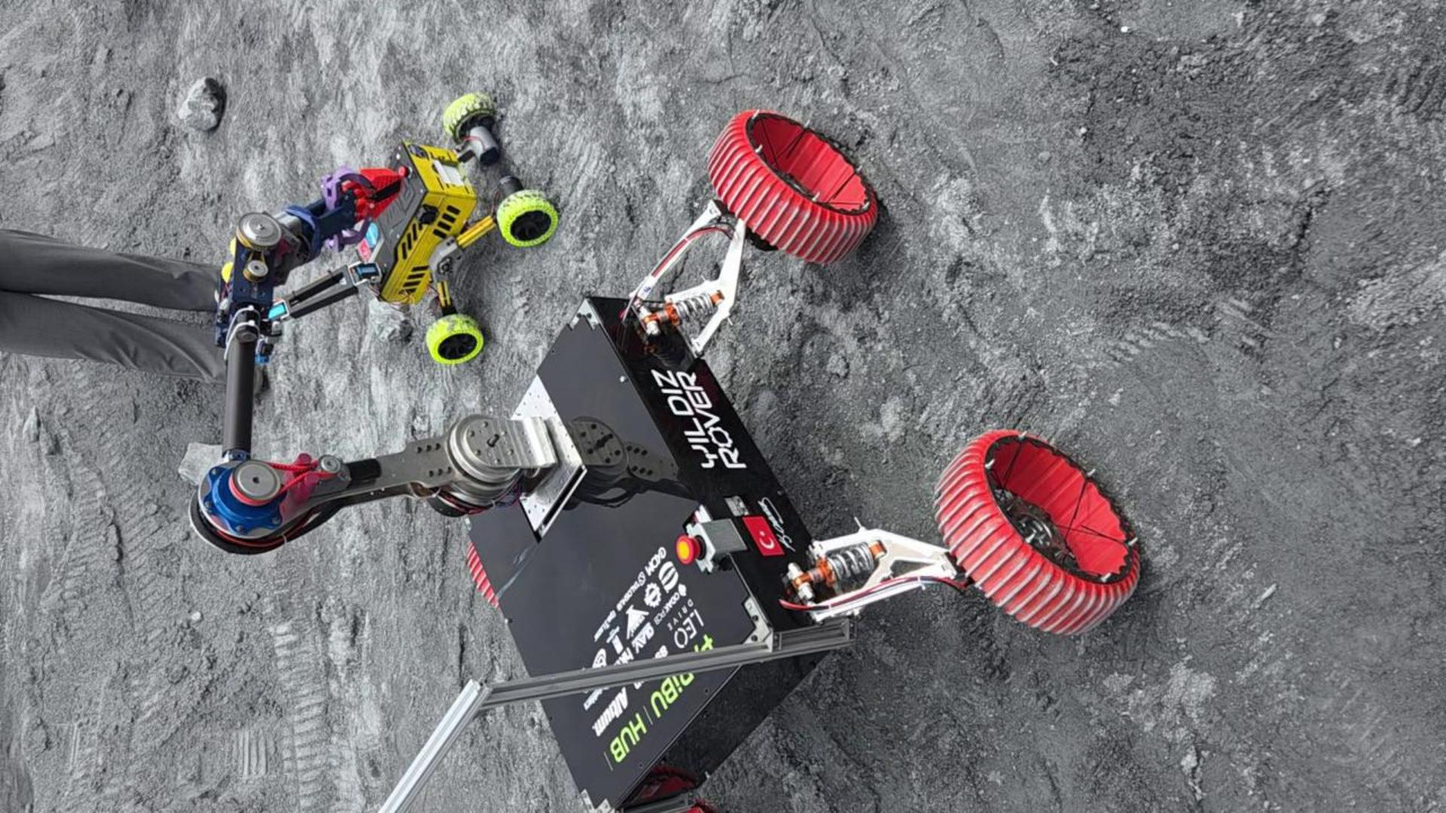rock: (176, 77, 226, 131)
